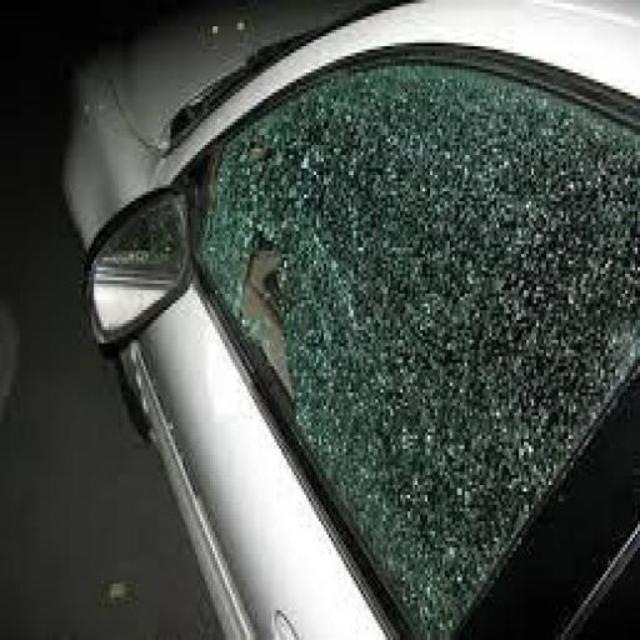glass shatter: (184, 73, 640, 640)
